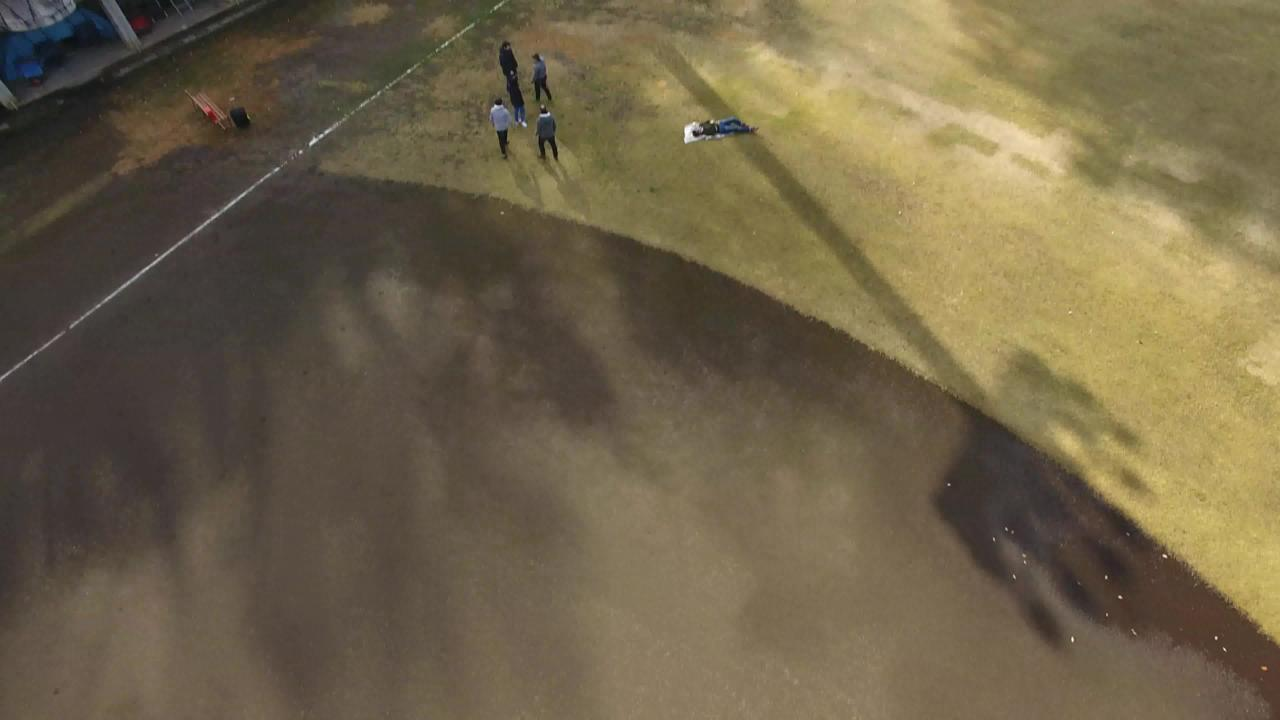person: (685, 113, 764, 150), (532, 98, 566, 169), (525, 42, 559, 108), (503, 72, 533, 130), (487, 92, 513, 155), (497, 38, 517, 66)
